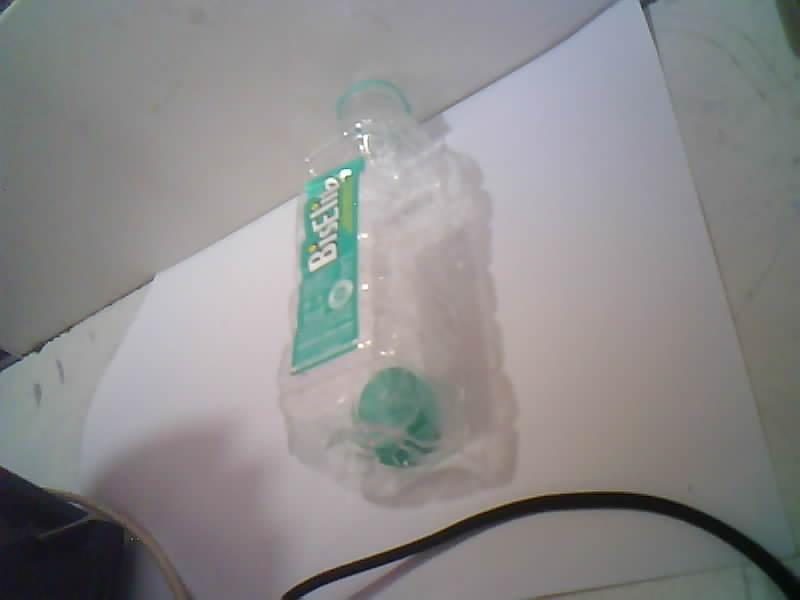non-biodegradable: (278, 80, 516, 503)
